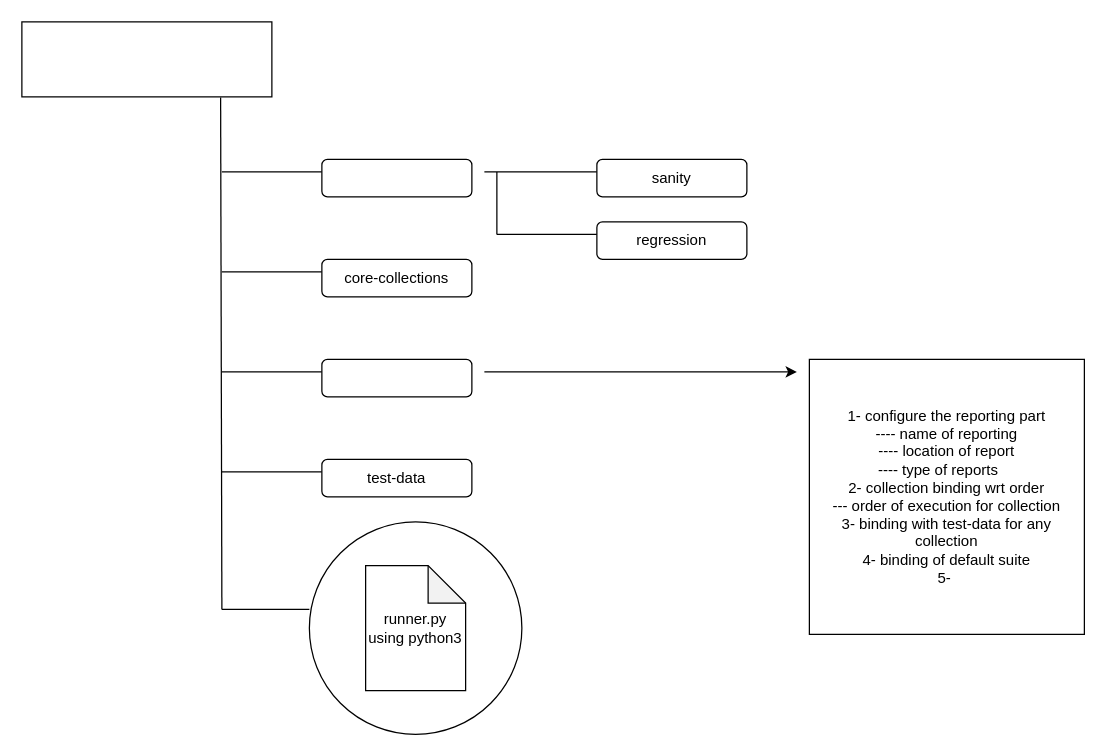
The diagram is 1106 pixels wide and 756 high, and some of its shapes have lost their labels. The shapes that lost their labels are listed below. From the top down, each one's centre as x and y in pixels, then its label:
the point at 146,59: Automation Framework
the point at 396,177: suites
the point at 396,377: configuration
